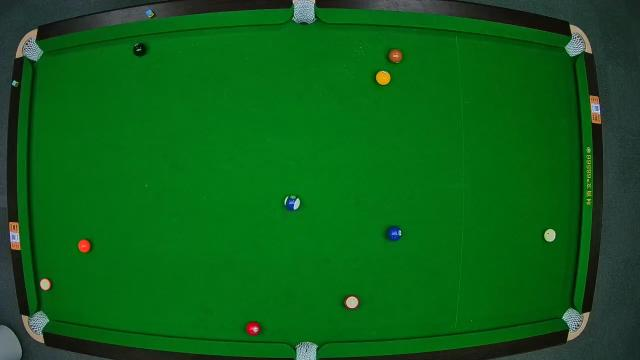bag1: (19, 38, 43, 62)
bag2: (292, 0, 317, 24)
bag3: (566, 32, 586, 56)
bag4: (30, 312, 48, 332)
bag5: (295, 339, 319, 360)
bag6: (564, 309, 582, 331)
ball0: (544, 228, 558, 244)
ball1: (376, 70, 392, 86)
ball10: (284, 194, 302, 210)
ball11: (344, 294, 361, 310)
ball12: (40, 277, 52, 291)
ball2: (386, 223, 402, 241)
ball3: (247, 320, 261, 336)
ball5: (77, 240, 91, 253)
ball7: (388, 48, 402, 64)
ball8: (132, 43, 148, 58)
